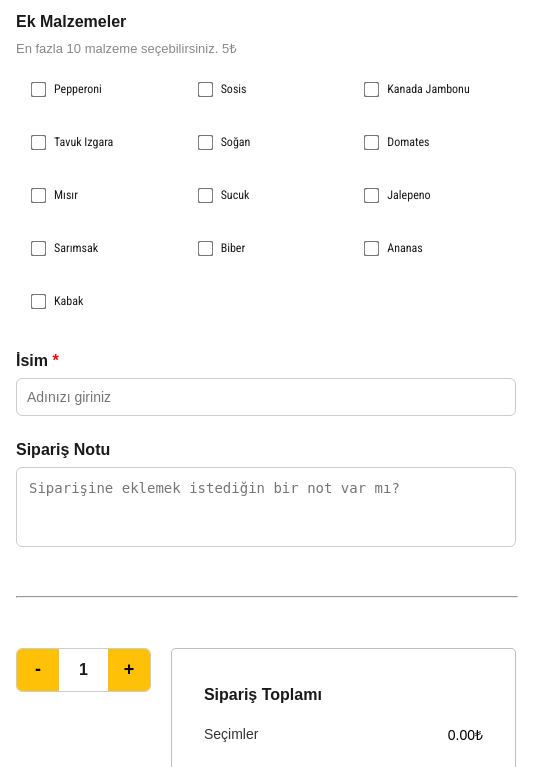
Form Validasyon Testleri › İsim 3 karakterden azsa hata verir
(page scrolled)
In the element with test id "data-name": x=266, y=384 [16, 352, 516, 416], type "Al"
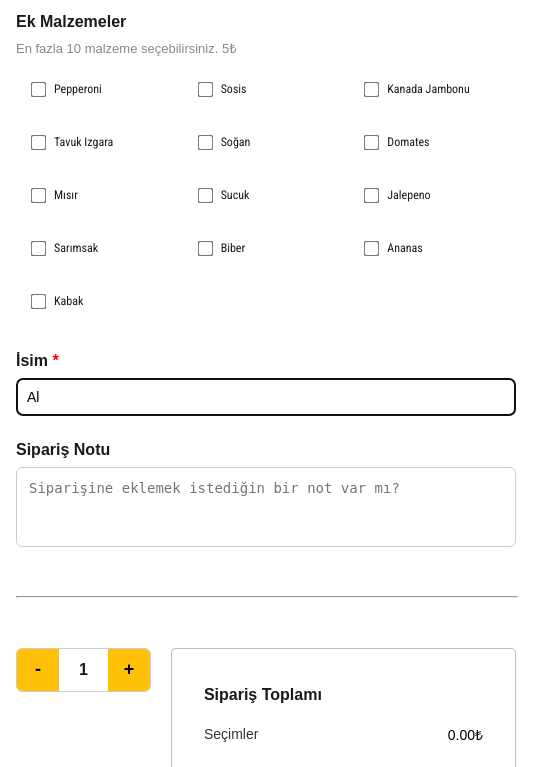
Scroll
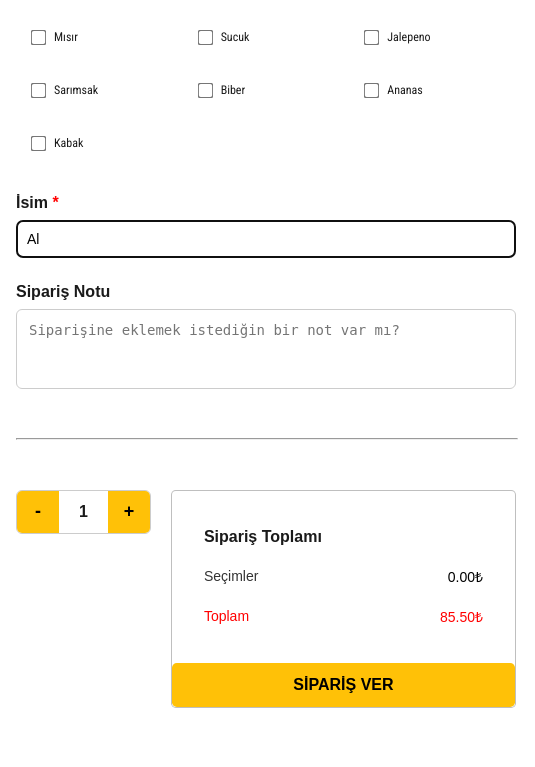
Click the button with test id "data-submit": x=344, y=685 [172, 663, 515, 707]
(page scrolled)
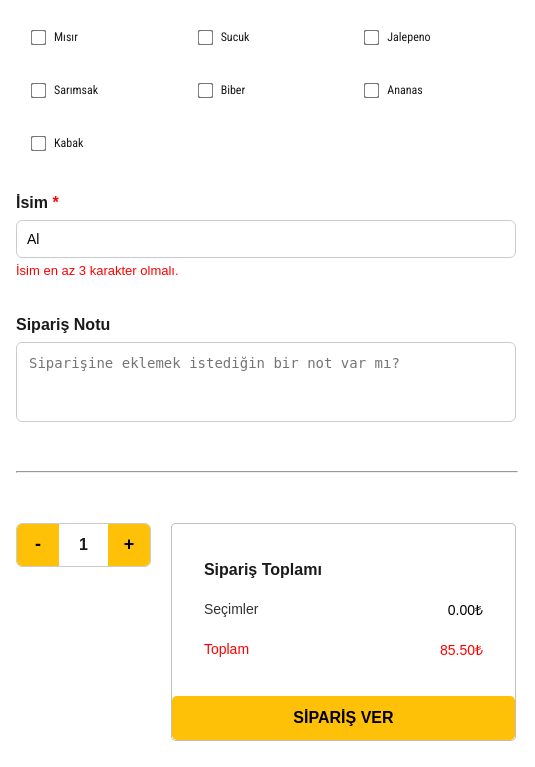
Result: the text "İsim en az 3 karakter olmalı." is shown at [16, 263, 179, 278]
